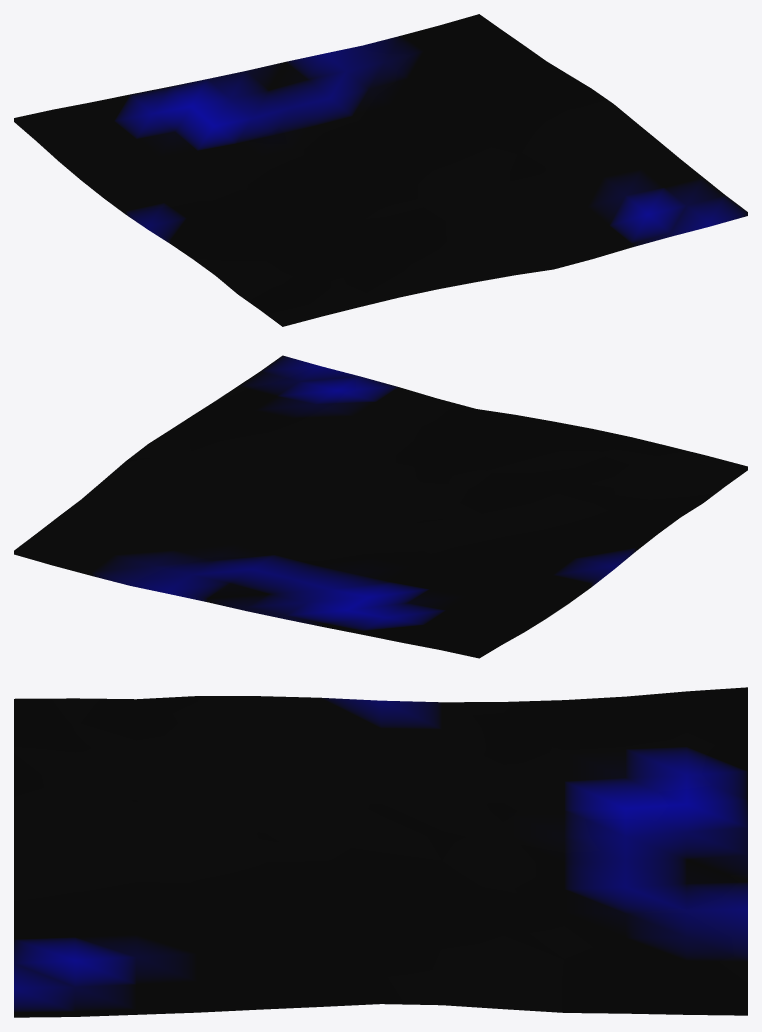
File: coast_18_4.glb
3 renders of one model, top to bottom at view 1: azimuth 30°, elevation 25°; view 2: azimuth 150°, elevation 25°; view 3: azimuth 270°, elevation 25°, orthographic. The views are drawn at different scales.
Parts seen in each view (by area): view 1: terrain; view 2: terrain; view 3: terrain.
Boxes of the visible parts, <box> form: terrain: <box>14,14,747,326</box>; terrain: <box>14,355,747,658</box>; terrain: <box>14,687,747,1017</box>.
Bounding box in the file's own units: 192 × 8.25 × 192.
